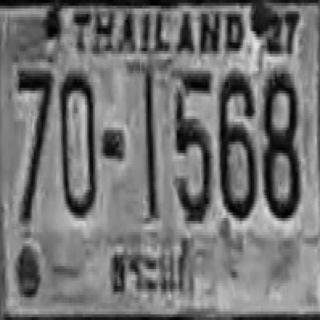N00: (59, 69, 96, 217)
N01: (142, 64, 157, 217)
N05: (174, 69, 212, 222)
N06: (218, 70, 256, 220)
N07: (16, 68, 52, 218)
N08: (261, 70, 300, 220)
P55: (107, 238, 215, 297)
